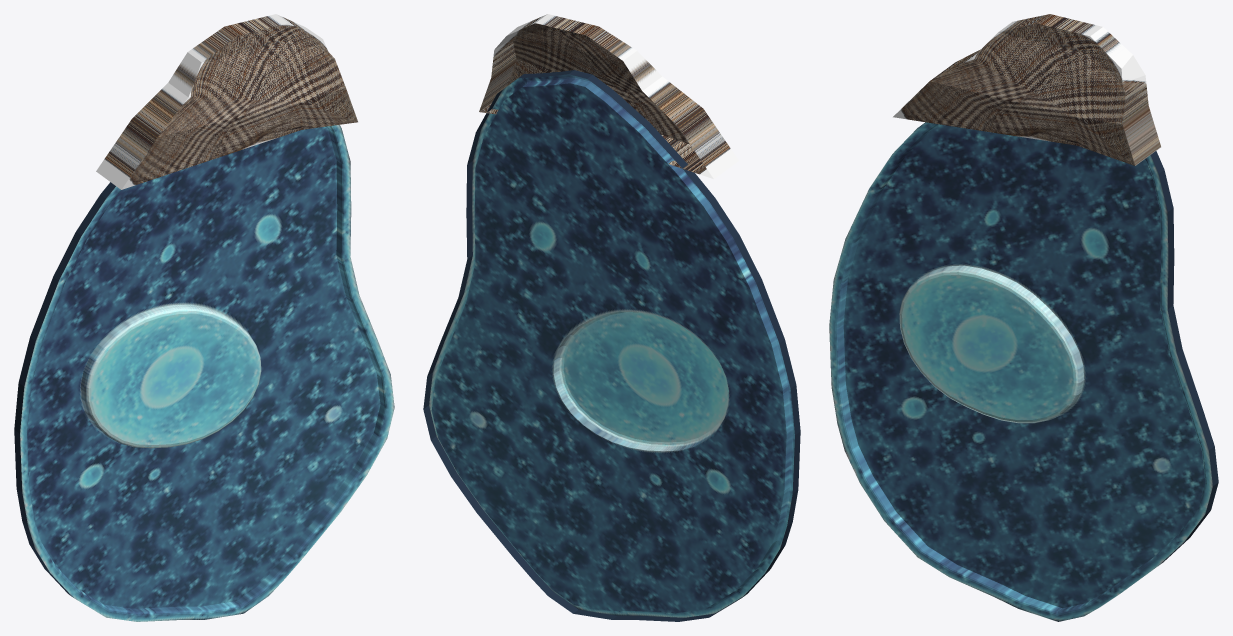
The model's file is einzeller-hut.gltf.
The picture shows the model from 3 angles, left to right: view 1: azimuth 30°, elevation 25°; view 2: azimuth 150°, elevation 25°; view 3: azimuth 330°, elevation 25°; orthographic projection. The views are drawn at different scales.
Visible parts, largest first — view 1: einzeller, Cube; view 2: einzeller, Cube; view 3: einzeller, Cube.
Boxes of the visible parts, left/top/right/bottom form: einzeller: left=14, top=125, right=394, bottom=621; Cube: left=96, top=14, right=357, bottom=189; einzeller: left=423, top=70, right=800, bottom=621; Cube: left=479, top=14, right=738, bottom=178; einzeller: left=829, top=122, right=1218, bottom=621; Cube: left=893, top=14, right=1160, bottom=165.
Size of the model in its own units: 1.25 by 1.88 by 0.1474.
Materials: 2 (2 with a texture image).
